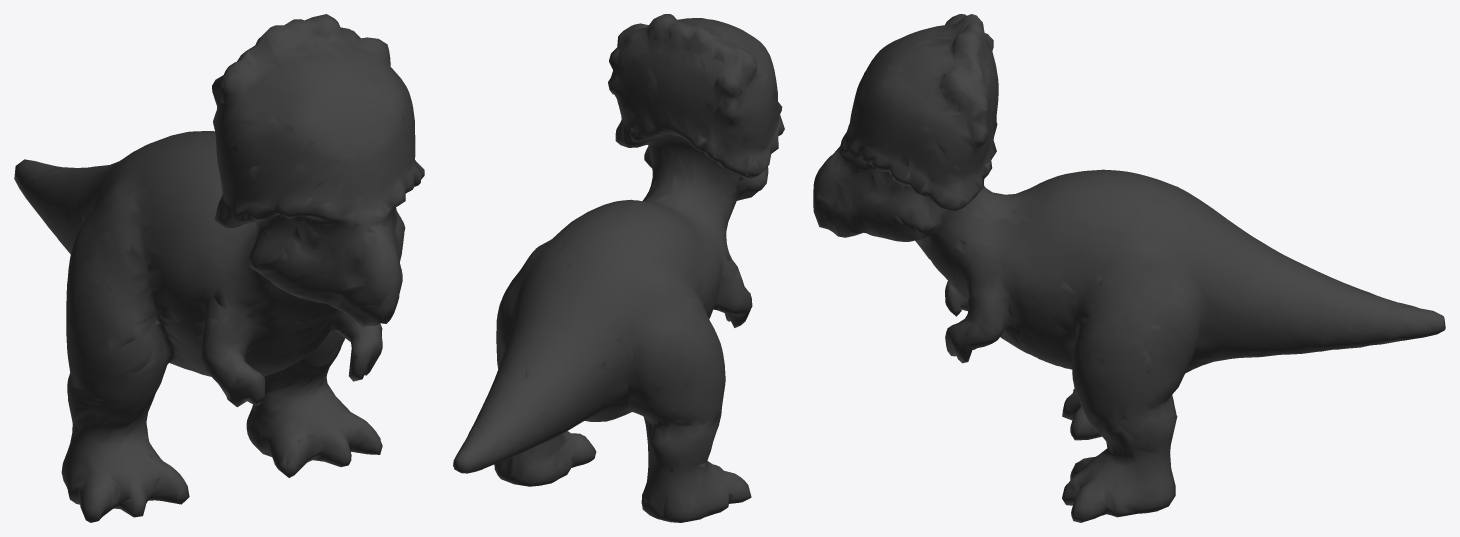
File: pachycephalosaurus.glb
The picture shows the model from 3 angles, left to right: view 1: azimuth 30°, elevation 25°; view 2: azimuth 150°, elevation 25°; view 3: azimuth 270°, elevation 25°; orthographic projection. The views are drawn at different scales.
Parts seen in each view (by area): view 1: geometry_0; view 2: geometry_0; view 3: geometry_0.
Boxes of the visible parts, box(x1,y1,x2,y2) form: geometry_0: box(14, 14, 424, 522); geometry_0: box(453, 14, 784, 522); geometry_0: box(813, 14, 1445, 522).
Bounding box in the file's own units: 0.4634 × 0.7689 × 1.
1 material, 1 textured.
